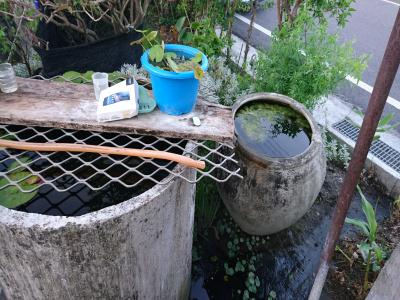bottle: (1, 61, 21, 95), (92, 70, 110, 98)
bowl: (213, 91, 330, 239)
box: (98, 79, 138, 122)
bucket: (138, 41, 211, 117)
